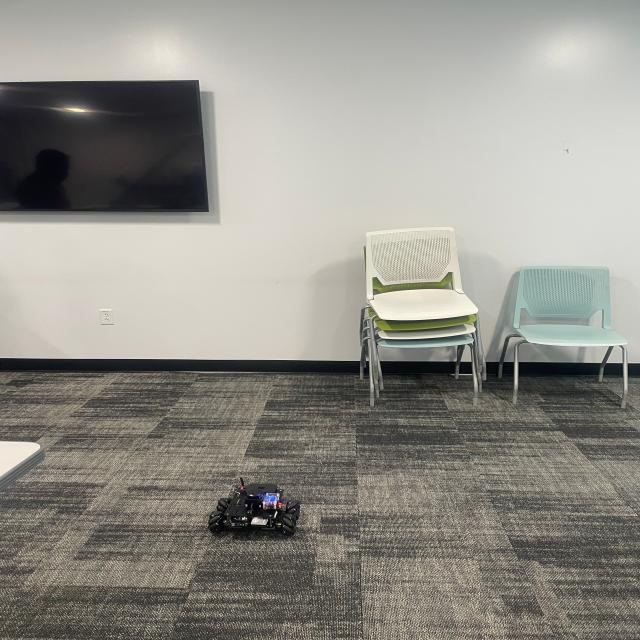ArduinoCar: (208, 481, 300, 541)
